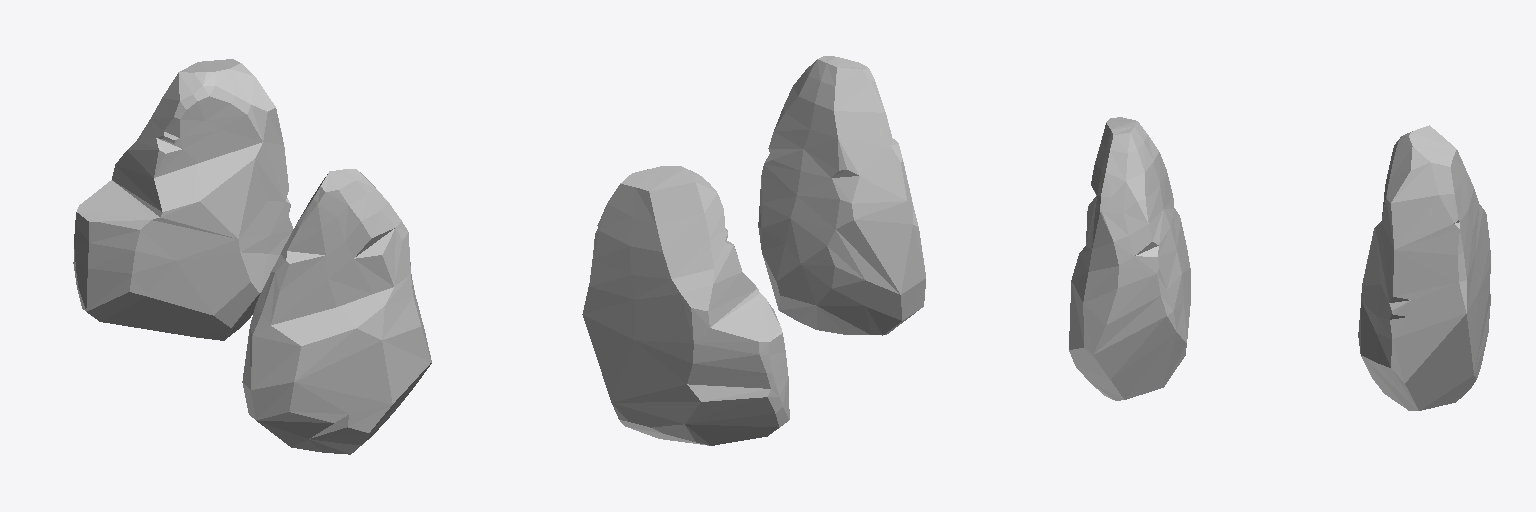
The model's file is lowpoly_rock.obj.
3 renders of one model, left to right at view 1: azimuth 30°, elevation 25°; view 2: azimuth 150°, elevation 25°; view 3: azimuth 270°, elevation 25°, orthographic.
Parts seen in each view (by area): view 1: rockmodel2, rockmodel1; view 2: rockmodel2, rockmodel1; view 3: rockmodel2, rockmodel1.
Boxes of the visible parts, box(x1,y1,x2,y2) form: rockmodel2: box(73, 59, 292, 340); rockmodel1: box(242, 169, 431, 454); rockmodel2: box(582, 166, 789, 445); rockmodel1: box(758, 56, 925, 335); rockmodel2: box(1358, 125, 1490, 410); rockmodel1: box(1069, 117, 1190, 400).
Size of the model in its own units: 242 by 328 by 460.